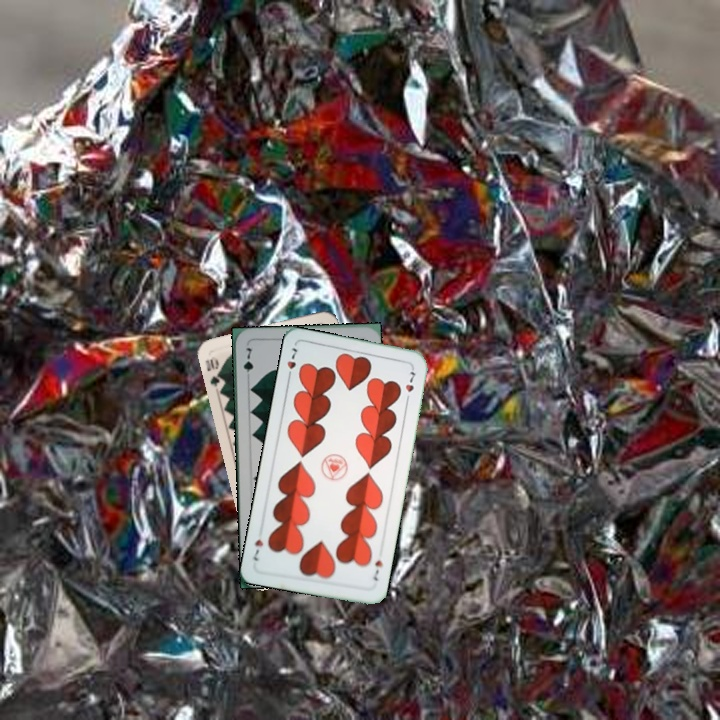G10: (201, 352, 225, 390)
G7: (239, 344, 256, 383)
H7: (283, 344, 300, 382), (369, 556, 385, 584)
